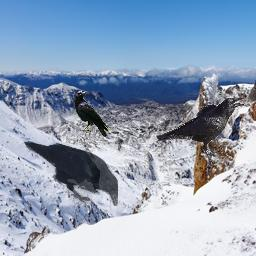Crow: (156, 97, 246, 167), (23, 141, 118, 206), (74, 91, 110, 137)
